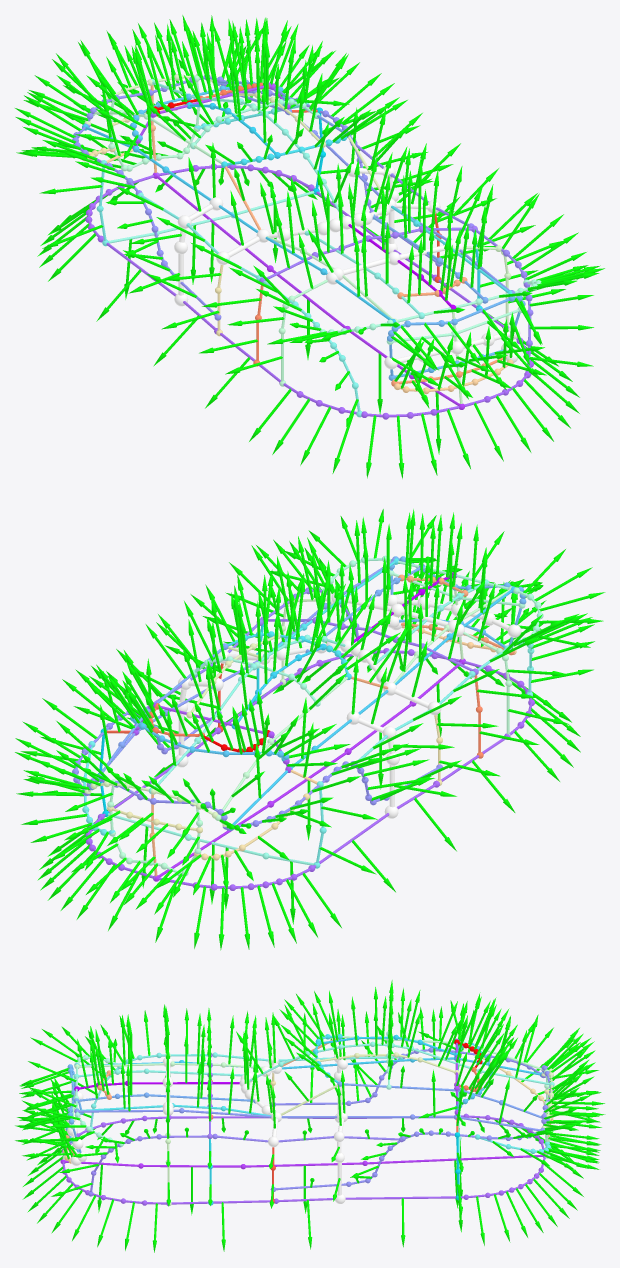
Rendered from t2f_car_97.gltf.
The picture shows the model from 3 angles, top to bottom: view 1: azimuth 30°, elevation 25°; view 2: azimuth 150°, elevation 25°; view 3: azimuth 270°, elevation 25°; orthographic projection. The views are drawn at different scales.
Bounding box in the file's own units: 0.5738 × 0.4444 × 1.08.
